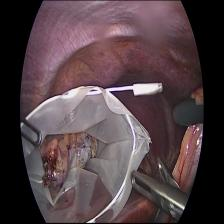Grasper: (129, 155, 188, 215), (19, 110, 44, 152)
Specimen Bag: (21, 81, 174, 224)
